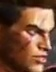kevin: (6, 4, 54, 71)
